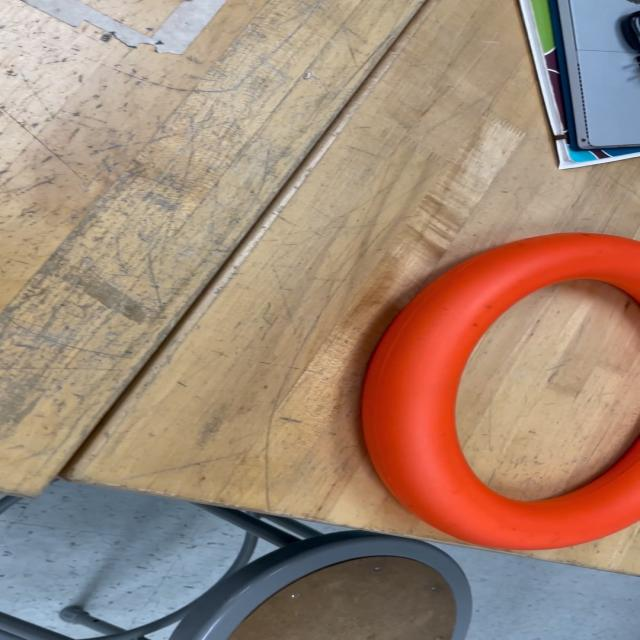note: (362, 236, 640, 552)
